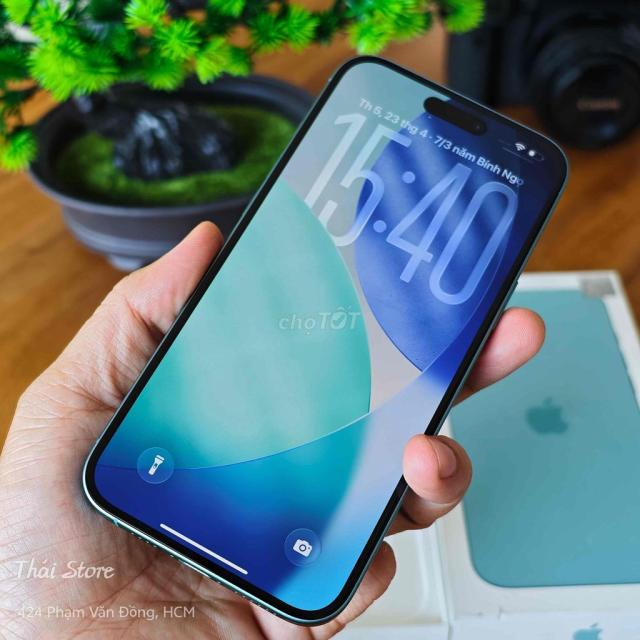gen_16: (71, 51, 574, 636)
